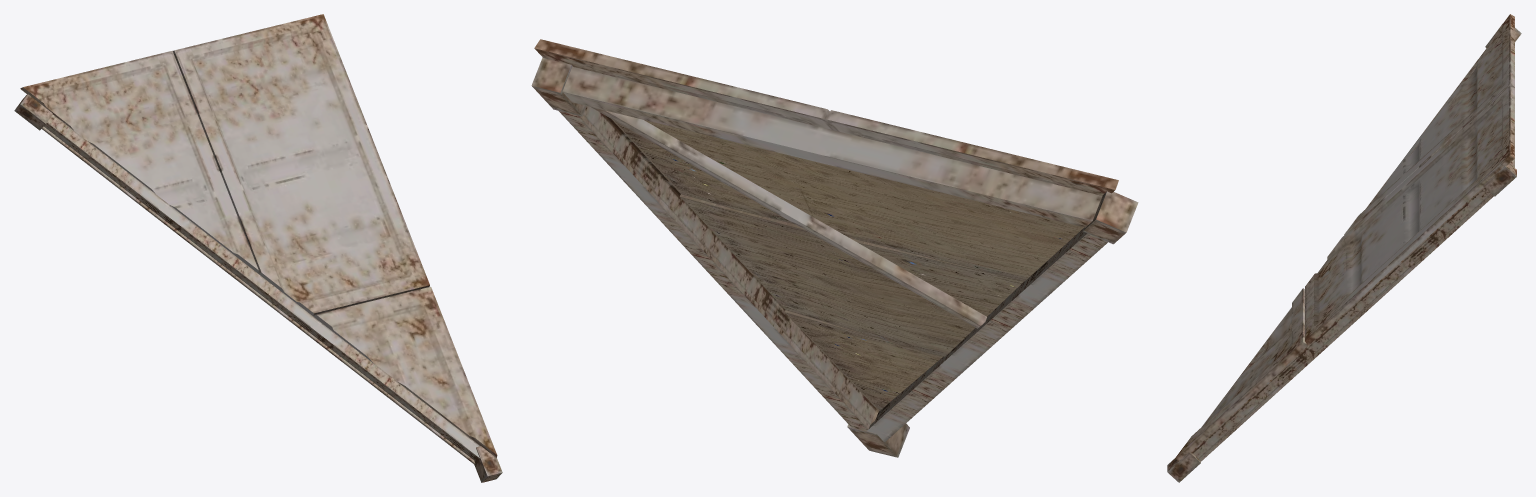
The model's file is roof.container.corner.90.concave.l.glb.
3 renders of one model, left to right at view 1: azimuth 30°, elevation 25°; view 2: azimuth 150°, elevation 25°; view 3: azimuth 270°, elevation 25°, orthographic. The views are drawn at different scales.
Visible parts, largest first — view 1: model; view 2: model; view 3: model.
Boxes of the visible parts, bbox=[...] form: model: bbox=[14, 14, 502, 482]; model: bbox=[531, 39, 1138, 457]; model: bbox=[1167, 14, 1521, 482].
Size of the model in its own units: 3.06 by 3.23 by 3.17.
Materials: 2 (2 with a texture image).
